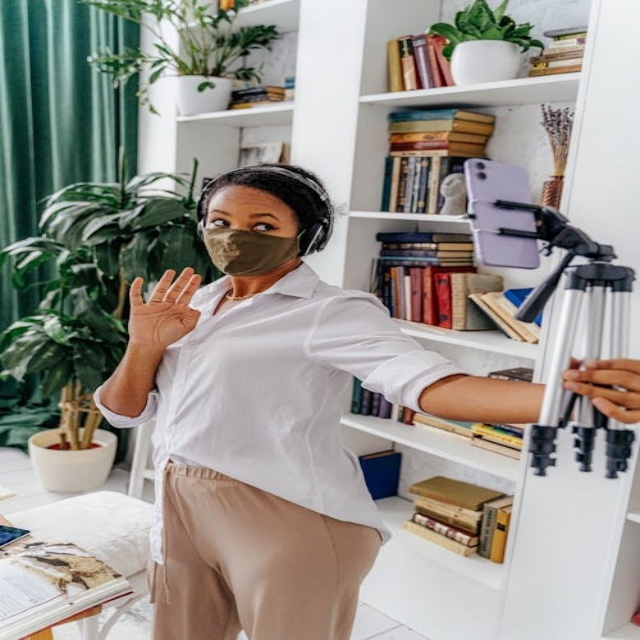Mascara: (201, 224, 307, 276)
Sin_gafas: (197, 204, 292, 235)
Sin_guantes: (106, 262, 207, 342), (561, 356, 639, 425)
